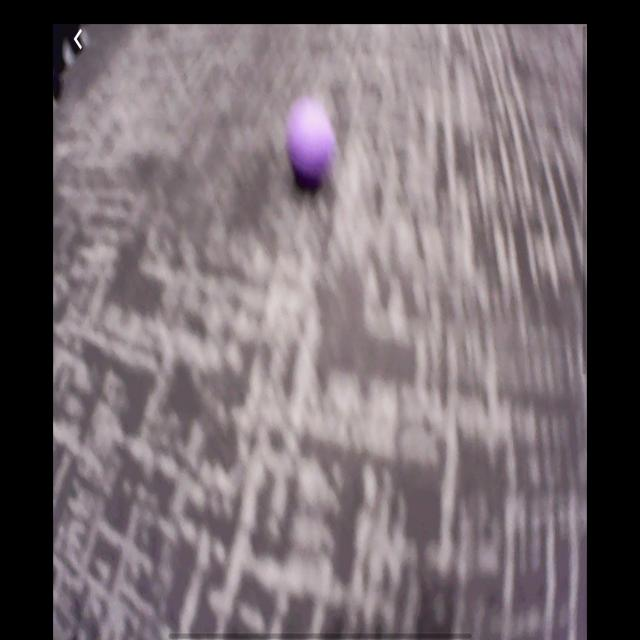ball: (285, 95, 336, 193)
